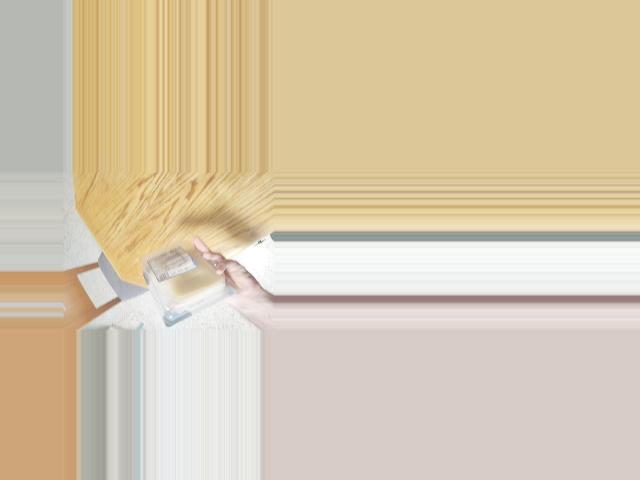cheese: (140, 255, 235, 320)
